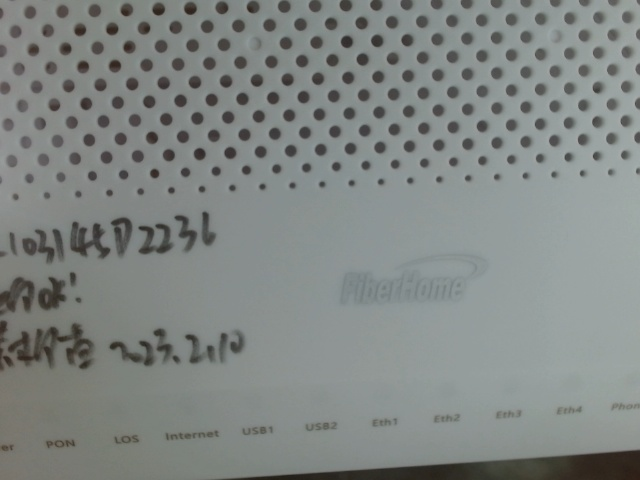AI_FiberHome: (330, 249, 494, 310)
